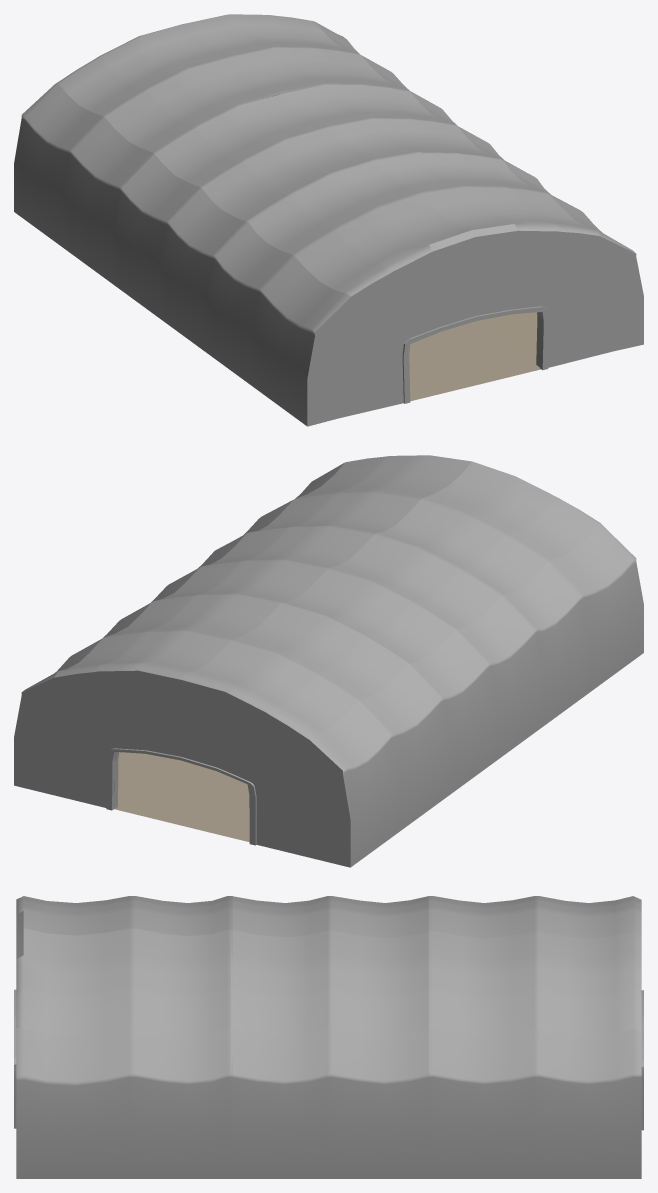
File: LazerBuilding.fbx
3 renders of one model, top to bottom at view 1: azimuth 30°, elevation 25°; view 2: azimuth 150°, elevation 25°; view 3: azimuth 270°, elevation 25°, orthographic. The views are drawn at different scales.
Parts seen in each view (by area): view 1: EntranceExteriorCap, ExitCapExterior, MiddleSectionExterior, LazerBuilding_Floor; view 2: ExitCapExterior, EntranceExteriorCap, MiddleSectionExterior, LazerBuilding_Floor; view 3: EntranceExteriorCap, ExitCapExterior, MiddleSectionExterior.
Part boxes in pixels (box(x1,y1,x2,y2)): EntranceExteriorCap: box(205, 152, 643, 426); ExitCapExterior: box(14, 14, 441, 284); MiddleSectionExterior: box(114, 84, 528, 351); LazerBuilding_Floor: box(409, 312, 540, 401); ExitCapExterior: box(14, 594, 450, 867); EntranceExteriorCap: box(214, 455, 643, 726); MiddleSectionExterior: box(151, 526, 542, 794); LazerBuilding_Floor: box(114, 752, 249, 842); EntranceExteriorCap: box(14, 896, 232, 1178); ExitCapExterior: box(428, 896, 643, 1178); MiddleSectionExterior: box(231, 896, 428, 1178).
Bounding box in the file's own units: 5823 × 2533 × 8860.
